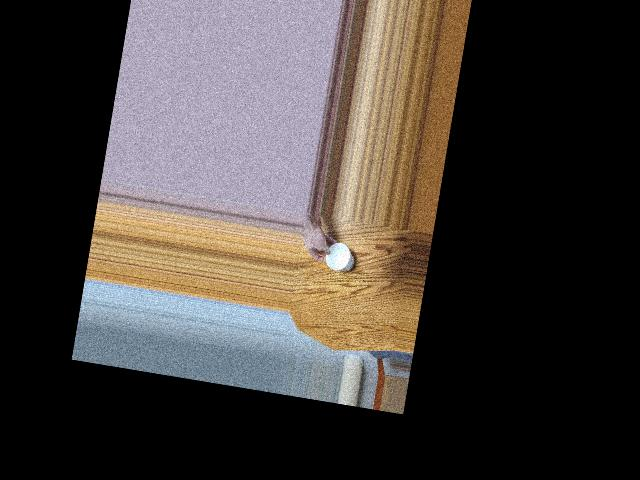cotage: (321, 238, 352, 271)
